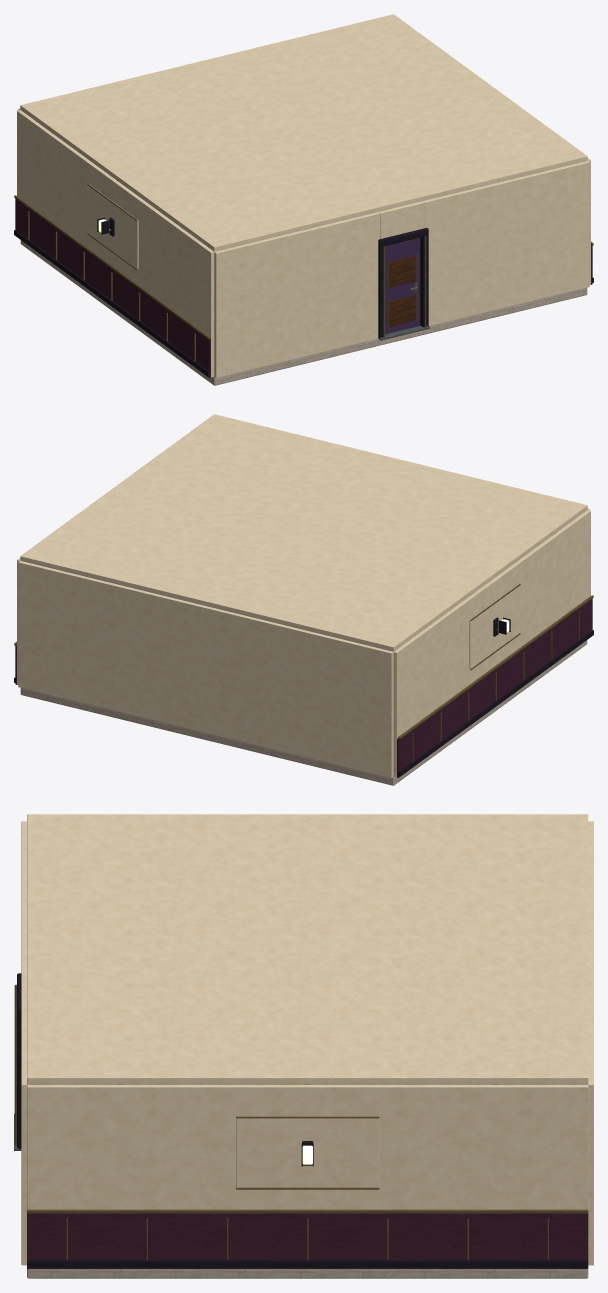
Rendered from explore3d__clinic.glb.
The picture shows the model from 3 angles, top to bottom: view 1: azimuth 30°, elevation 25°; view 2: azimuth 150°, elevation 25°; view 3: azimuth 270°, elevation 25°; orthographic projection. The views are drawn at different scales.
Parts seen in each view (by area): view 1: ceiling_surface.009, front_wall.029, front_wall.027, left_wall.025, left_wainscot.017, floor.010, left_upper_inset.017, clinic_leaf, left_skirt.017, front_wall.028, left_rail.017, clinic_jamb.001 (+3 smaller); view 2: ceiling_surface.009, back_wall.019, left_wall.025, left_wainscot.017, floor.010, left_upper_inset.017, left_skirt.017, left_rail.017; view 3: ceiling_surface.009, right_wall.025, right_wainscot.017, right_upper_inset.017, floor.010, right_skirt.017, right_rail.017, back_wall.019, front_wall.027, front_wall.029, clinic_jamb.001.
Boxes of the visible parts, x1,y1,x2,y2 form: ceiling_surface.009: (20,14,587,251); front_wall.029: (214,211,380,378); front_wall.027: (423,161,589,326); left_wall.025: (17,110,214,377); left_wainscot.017: (15,199,210,377); floor.010: (20,240,587,385); left_upper_inset.017: (88,184,138,269); clinic_leaf: (385,237,420,334); left_skirt.017: (14,230,209,376); front_wall.028: (379,201,424,238); left_rail.017: (14,195,209,339); clinic_jamb.001: (420,232,428,327); ceiling_surface.009: (20,414,587,651); back_wall.019: (18,561,393,778); left_wall.025: (393,510,590,777); left_wainscot.017: (397,599,592,777); floor.010: (20,640,587,785); left_upper_inset.017: (469,584,519,669); left_skirt.017: (398,630,593,776); left_rail.017: (398,595,593,739); ceiling_surface.009: (27,814,588,1084); right_wall.025: (27,1084,588,1209); right_wainscot.017: (27,1213,588,1268); right_upper_inset.017: (236,1118,379,1187); floor.010: (27,1269,588,1278); right_skirt.017: (27,1260,588,1267); right_rail.017: (27,1209,588,1213); back_wall.019: (588,821,593,1265); front_wall.027: (21,968,27,1265); front_wall.029: (21,821,26,937); clinic_jamb.001: (17,1012,21,1148).
Bounding box in the file's own units: 10.96 × 3.56 × 9.3.
17 materials, 16 textured.
